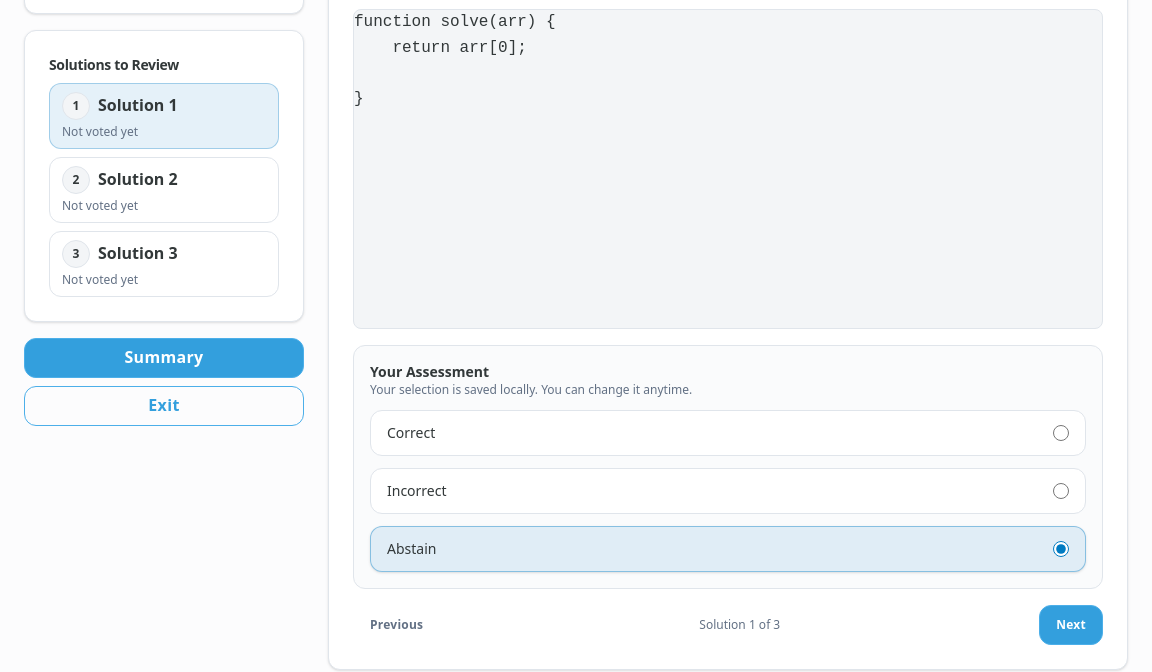
Scenario: RT-181: Incorrect Vote Validation › Empty field validation › shows warning when Incorrect is selected without providing fields
(page scrolled)
Expected: the text "Solution 1 of 3" is shown, [699,617,780,633]
Click the radio button labelled "Incorrect" at [1061, 491], box [1053,483,1069,499]
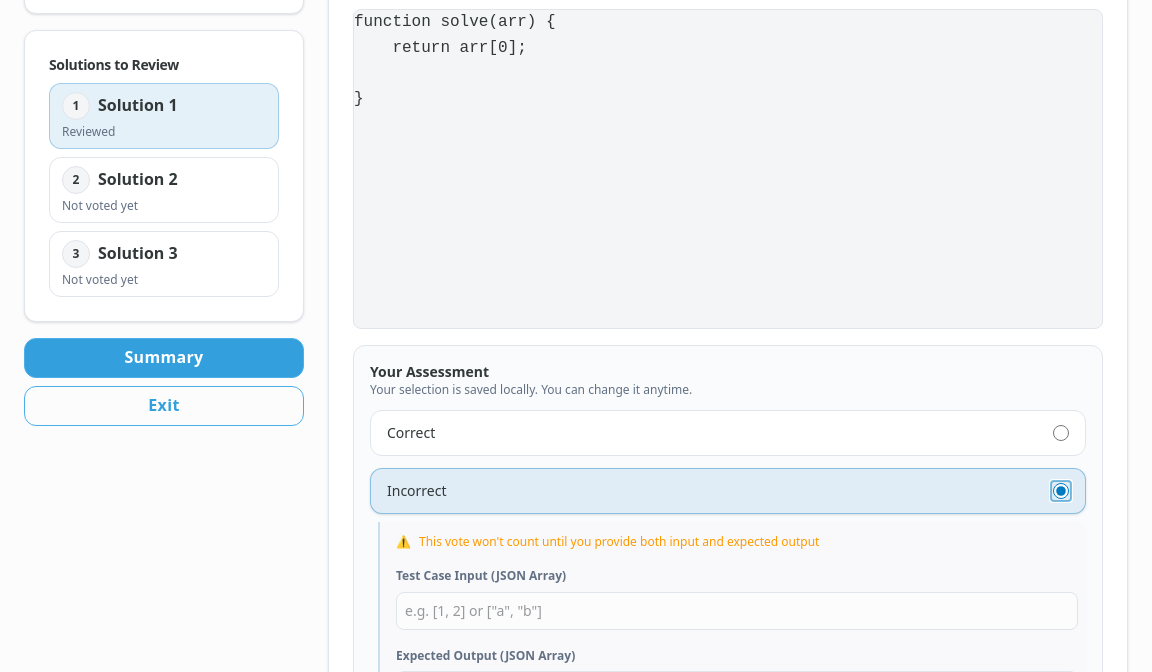
Now the text "This vote won't count" is shown, box [419,533,820,550]
